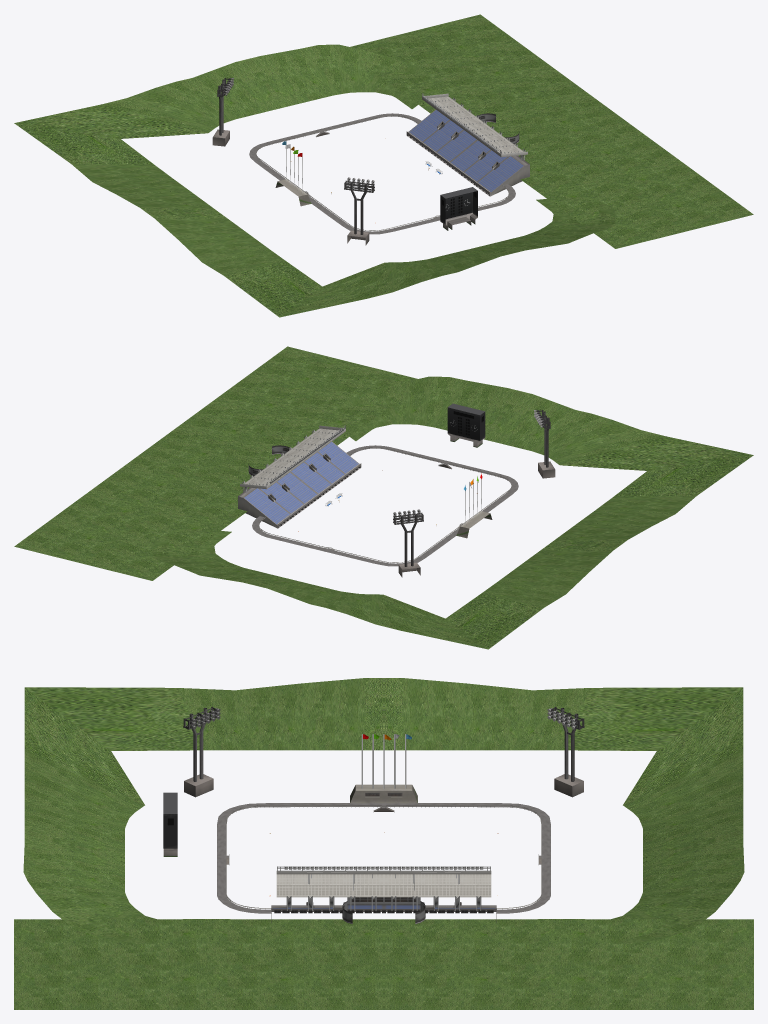
File: st_021_stadium.fbx
The picture shows the model from 3 angles, top to bottom: view 1: azimuth 30°, elevation 25°; view 2: azimuth 150°, elevation 25°; view 3: azimuth 270°, elevation 25°; orthographic projection. The views are drawn at different scales.
Parts seen in each view (by area): view 1: stadiam_all_out; view 2: stadiam_all_out; view 3: stadiam_all_out.
Part boxes in pixels (<box>): stadiam_all_out: <box>14,14,753,317</box>; stadiam_all_out: <box>14,346,753,649</box>; stadiam_all_out: <box>14,678,753,1009</box>.
Size of the model in its own units: 340 by 50.12 by 342.
